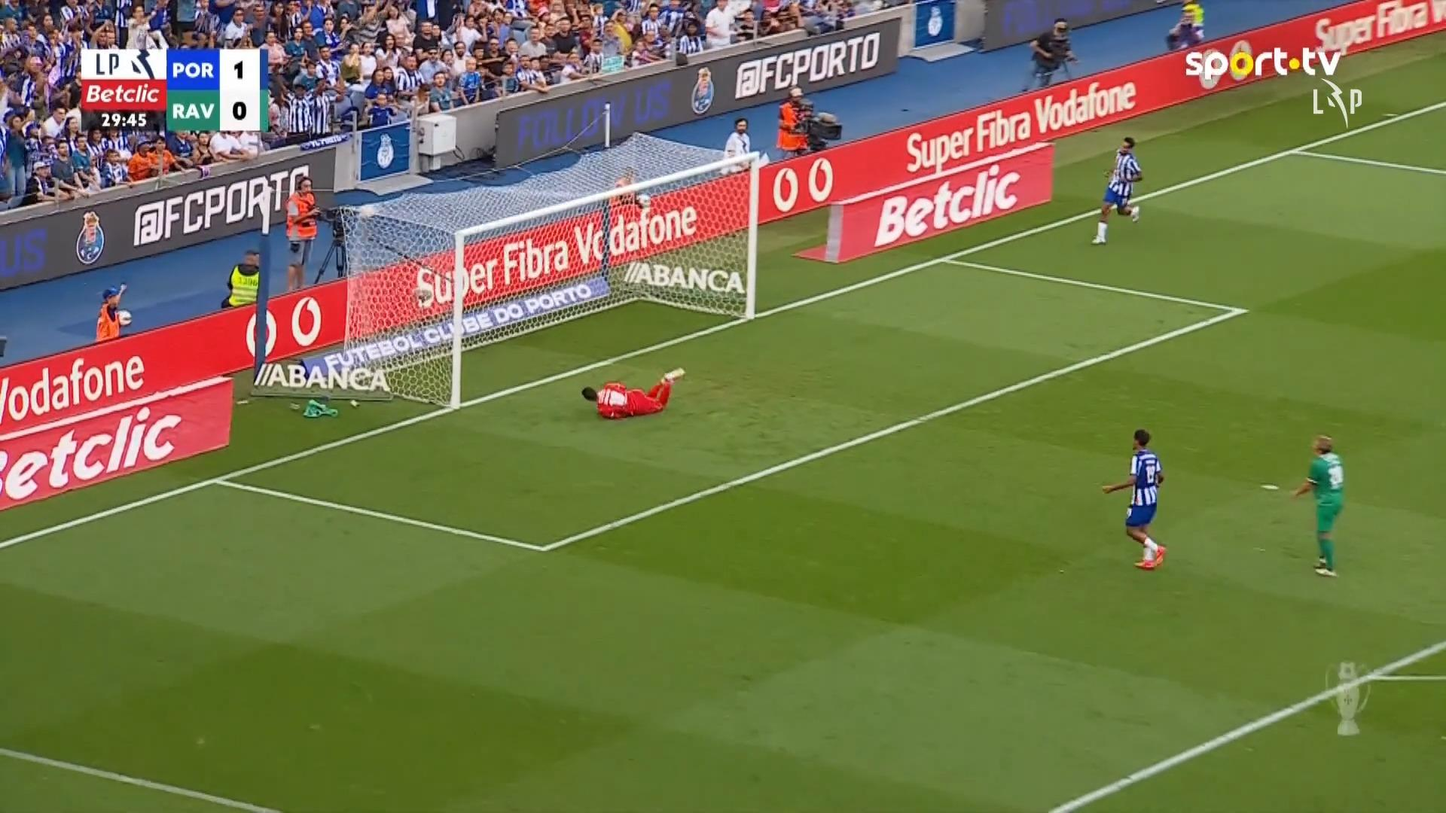ball: (637, 192, 653, 209)
goalkeeper: (580, 367, 685, 420)
player: (1100, 428, 1167, 569), (1290, 433, 1345, 577), (1091, 136, 1143, 245)
